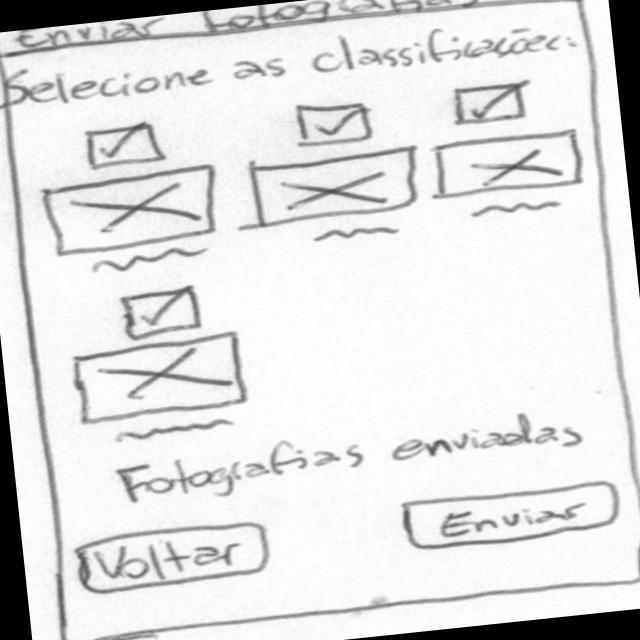button: (397, 478, 625, 556), (68, 515, 277, 599)
checkbox: (115, 281, 212, 343), (285, 94, 385, 152), (450, 75, 540, 130), (80, 120, 171, 173)
container: (1, 1, 640, 640), (1, 1, 593, 66)
image: (41, 165, 224, 258), (74, 331, 255, 425), (245, 143, 425, 232), (432, 125, 588, 203)
label: (9, 13, 584, 113), (112, 407, 595, 505), (14, 1, 486, 56)
text: (90, 241, 216, 275), (112, 415, 241, 447), (310, 219, 406, 250), (470, 195, 569, 223)
